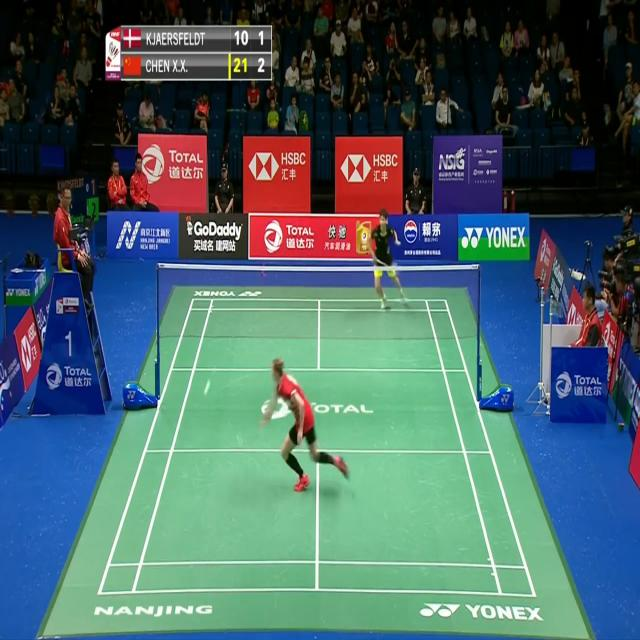Player1: (260, 354, 350, 501)
Player2: (362, 205, 412, 313)
